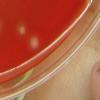white: (30, 36, 39, 50), (18, 25, 26, 35)
